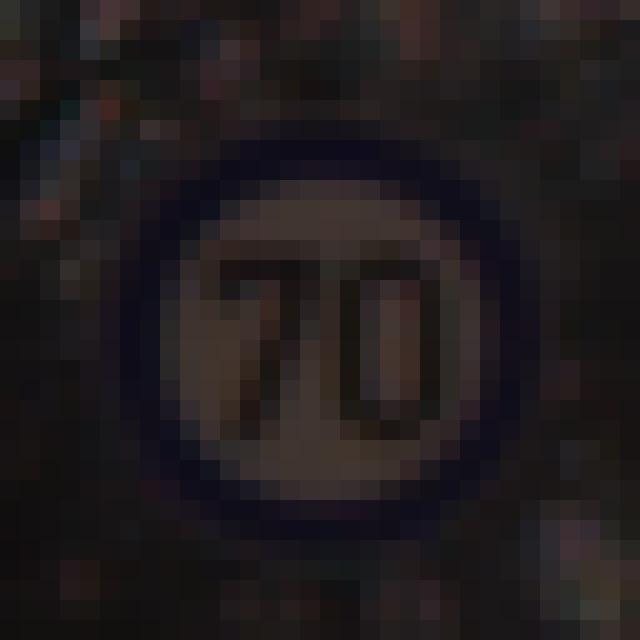SPEED LIMIT 70: (123, 153, 537, 532)
